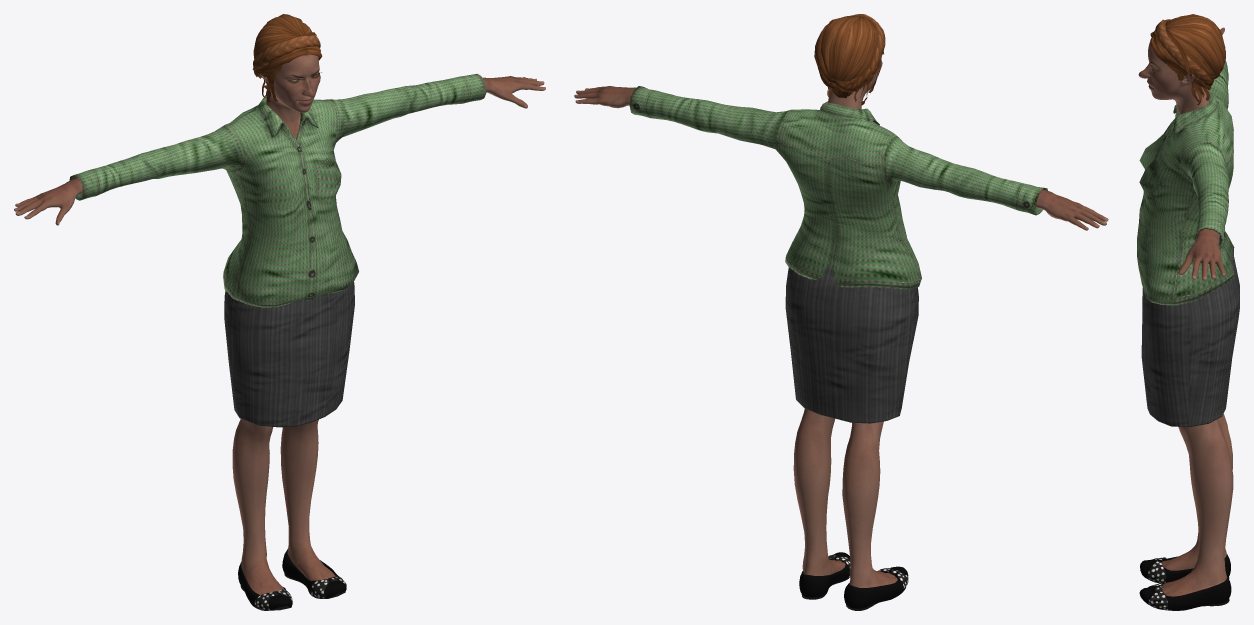
The picture shows the model from 3 angles, left to right: view 1: azimuth 30°, elevation 25°; view 2: azimuth 150°, elevation 25°; view 3: azimuth 270°, elevation 25°; orthographic projection.
Visible parts, largest first — view 1: Tops, Body, Bottoms, Hair, Shoes; view 2: Tops, Bottoms, Body, Hair, Shoes; view 3: Tops, Bottoms, Body, Hair, Shoes.
Boxes of the visible parts, x1=… form: Tops: x1=69, y1=74, x2=486, y2=307; Body: x1=14, y1=54, x2=545, y2=594; Bottoms: x1=224, y1=282, x2=354, y2=427; Hair: x1=252, y1=14, x2=322, y2=102; Shoes: x1=238, y1=549, x2=346, y2=610; Tops: x1=629, y1=86, x2=1047, y2=289; Bottoms: x1=785, y1=267, x2=918, y2=423; Body: x1=574, y1=60, x2=1108, y2=587; Hair: x1=814, y1=14, x2=885, y2=105; Shoes: x1=799, y1=552, x2=908, y2=610; Tops: x1=1137, y1=60, x2=1234, y2=305; Bottoms: x1=1141, y1=253, x2=1239, y2=427; Body: x1=1138, y1=27, x2=1233, y2=596; Hair: x1=1150, y1=14, x2=1225, y2=104; Shoes: x1=1139, y1=554, x2=1231, y2=610.
Bounding box in the file's own units: 180 × 185 × 30.18.
5 materials, 5 textured.
